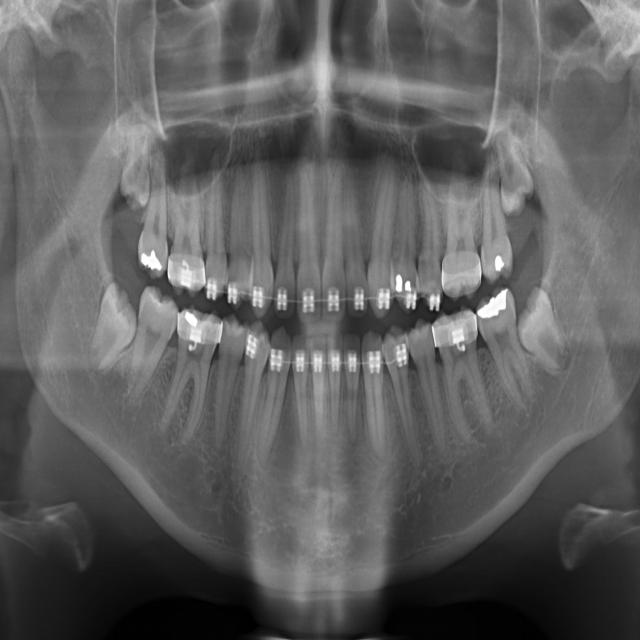AmalgamRestoration: (477, 287, 513, 325), (138, 244, 168, 278), (395, 267, 414, 295), (493, 248, 508, 282)
